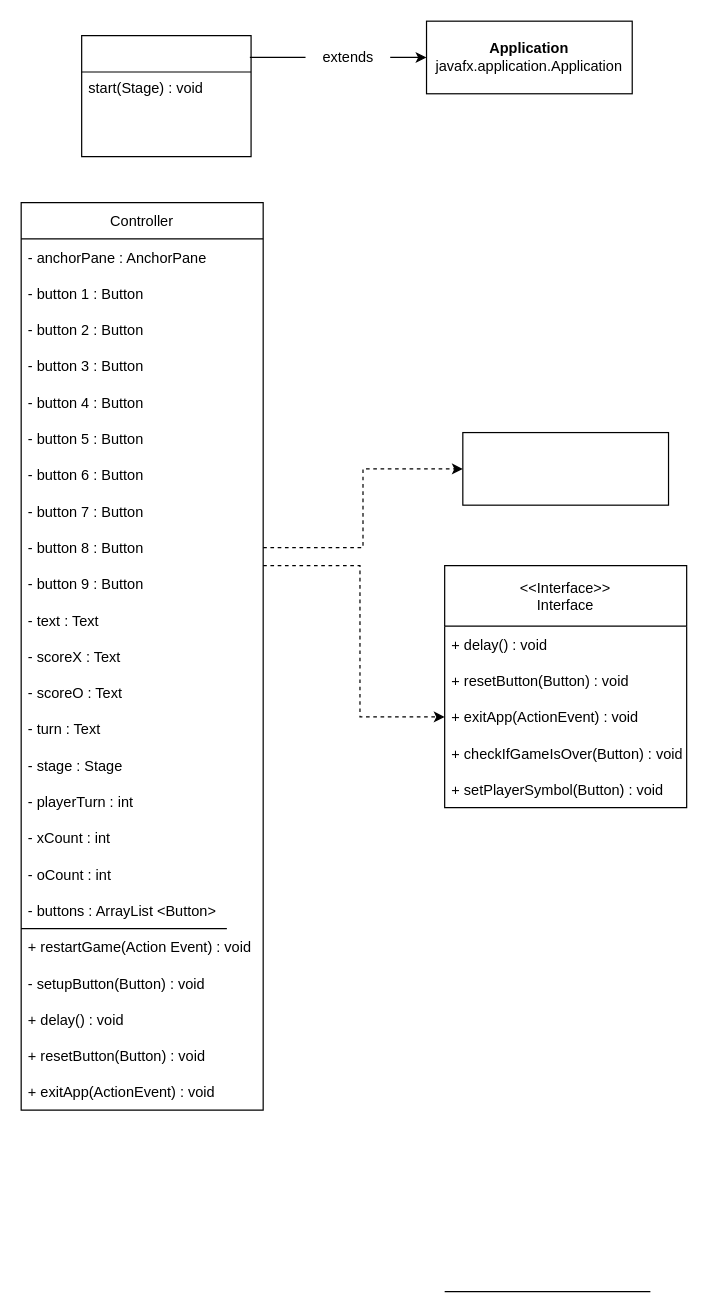
Some shapes in this 708 by 1314 pixel diagram are drawn without their labels. Here are the shapes that lost their labels. From the top down, the box of each, then its label:
(80, 34, 251, 157): App
(462, 431, 669, 505): <<Interface>> Initialiazable javafx.initialiazable
